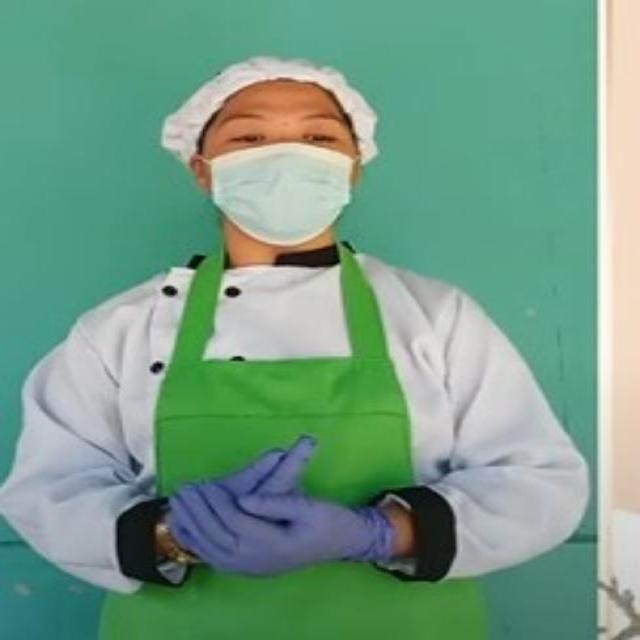gloved_hand: (160, 484, 399, 573), (203, 425, 323, 495)
